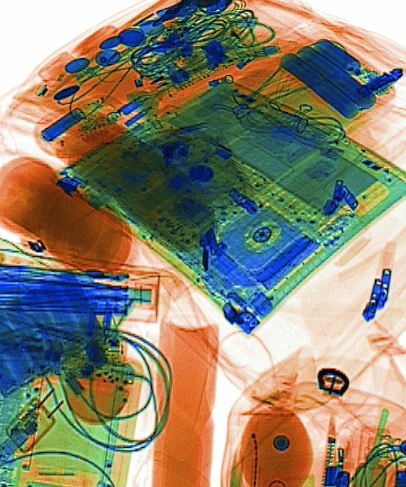powerbank: (277, 33, 399, 122)
